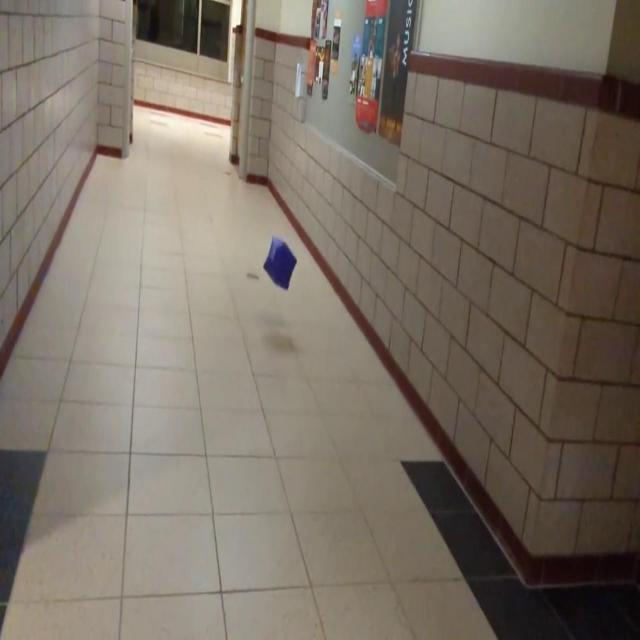frc_cube: (264, 238, 296, 292)
